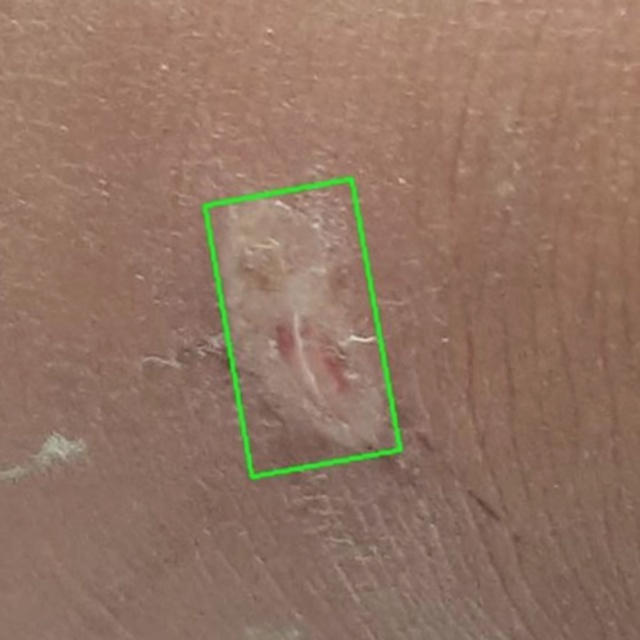Eczema: (204, 179, 400, 477)
